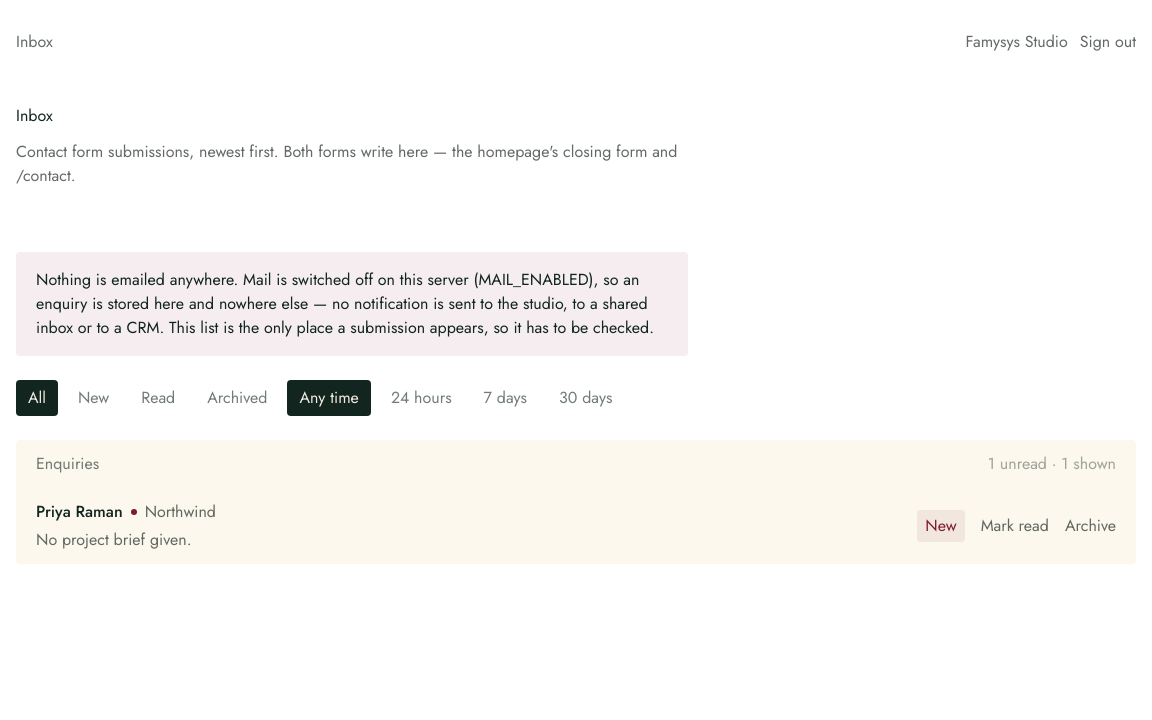
InboxScreen › says a failure happened rather than looking like it worked
The width and height of the screenshot is (1152, 720).
Click the button "Mark read" at (1015,526), box left=981, top=514, right=1049, bottom=538
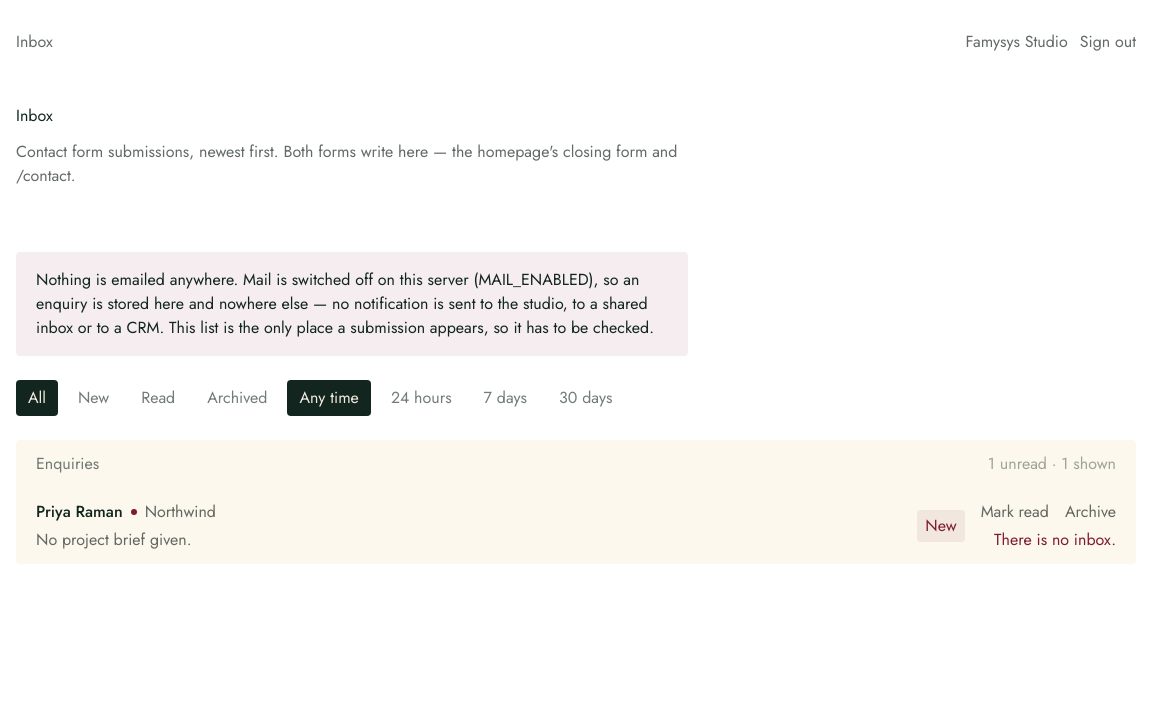
Expected: the message reads "There is no inbox.", left=994, top=528, right=1116, bottom=551
